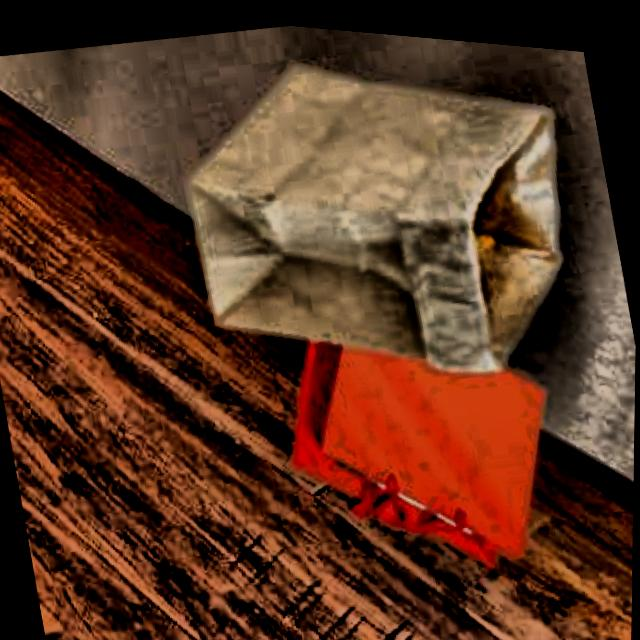Paper-bag: (147, 11, 618, 440), (247, 230, 591, 605)
